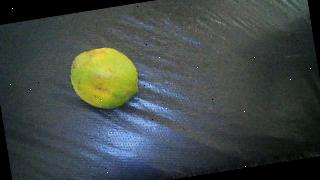DESECHO: (67, 43, 142, 114)
